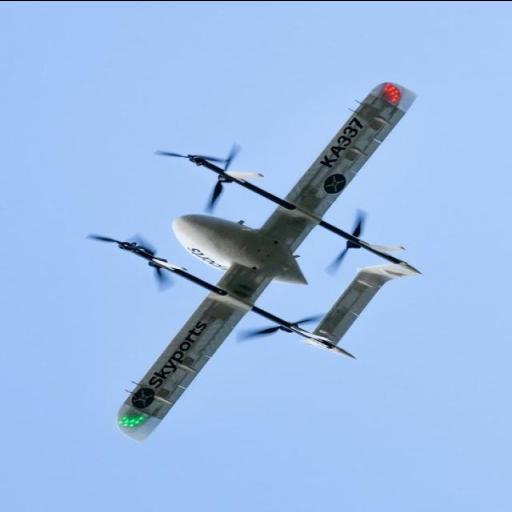uav: (82, 80, 454, 442)
